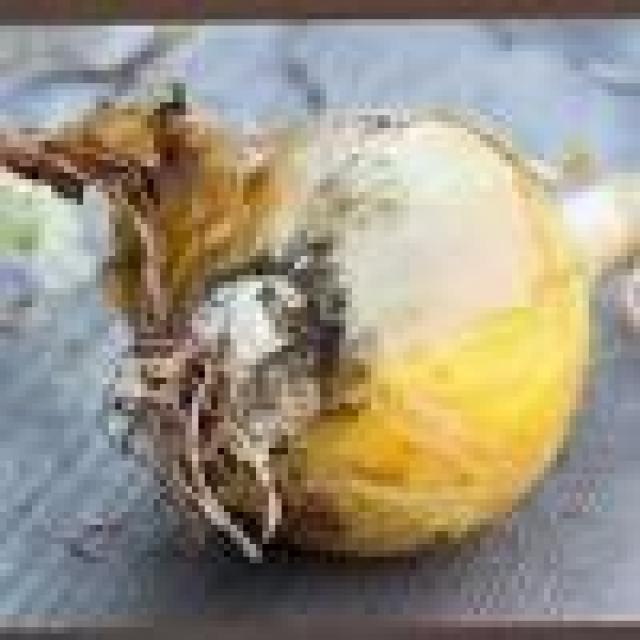Onion: (0, 64, 640, 563)
